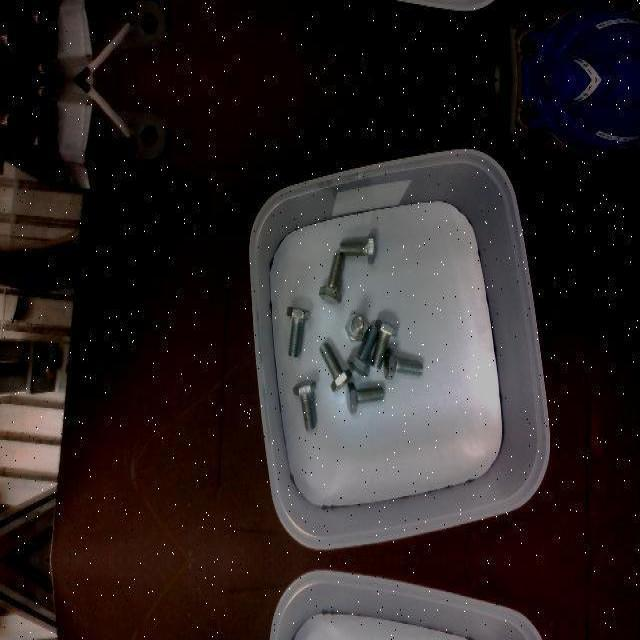screw: (347, 325, 379, 377), (319, 341, 352, 391), (318, 252, 344, 304), (371, 319, 398, 369), (383, 347, 423, 379), (345, 382, 383, 414), (292, 380, 316, 430), (286, 305, 310, 355), (339, 232, 375, 264), (344, 313, 368, 341)
